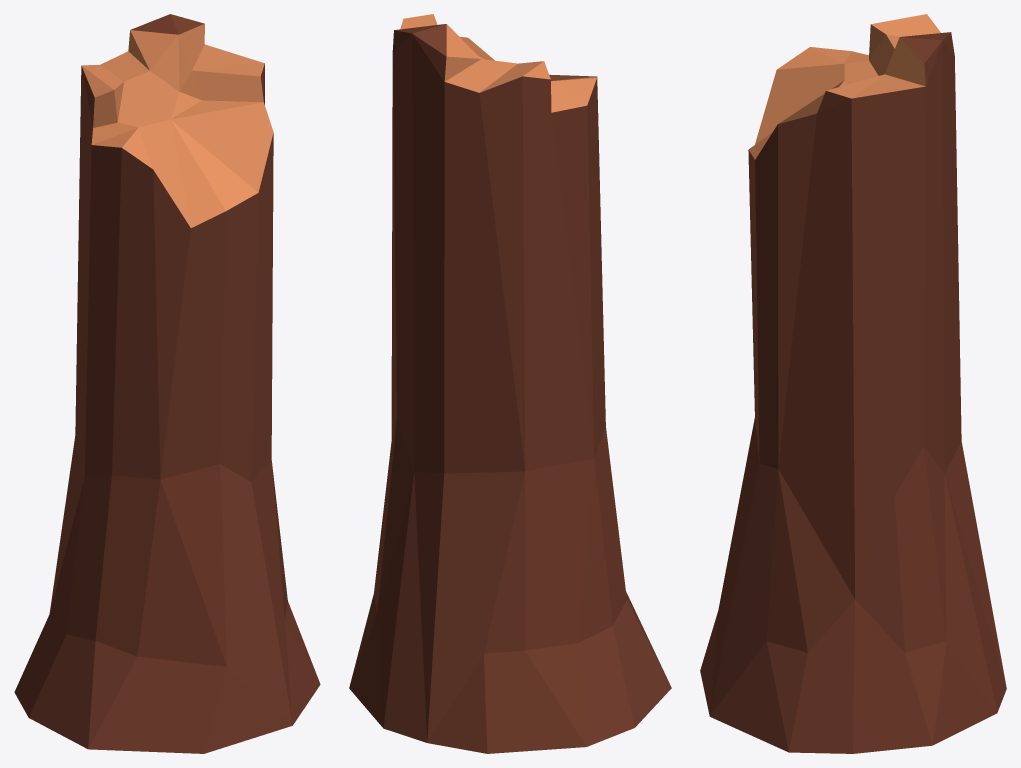
Rendered from pine_trunk_type_9_LOD1.fbx.
The picture shows the model from 3 angles, left to right: view 1: azimuth 30°, elevation 25°; view 2: azimuth 150°, elevation 25°; view 3: azimuth 270°, elevation 25°; orthographic projection. The views are drawn at different scales.
Visible parts, largest first — view 1: pt_type_9; view 2: pt_type_9; view 3: pt_type_9.
Boxes of the visible parts, x1,y1,x2,y2 form: pt_type_9: (14, 14, 320, 753); pt_type_9: (349, 14, 671, 753); pt_type_9: (700, 14, 1006, 753).
Size of the model in its own units: 160 by 380 by 157.
